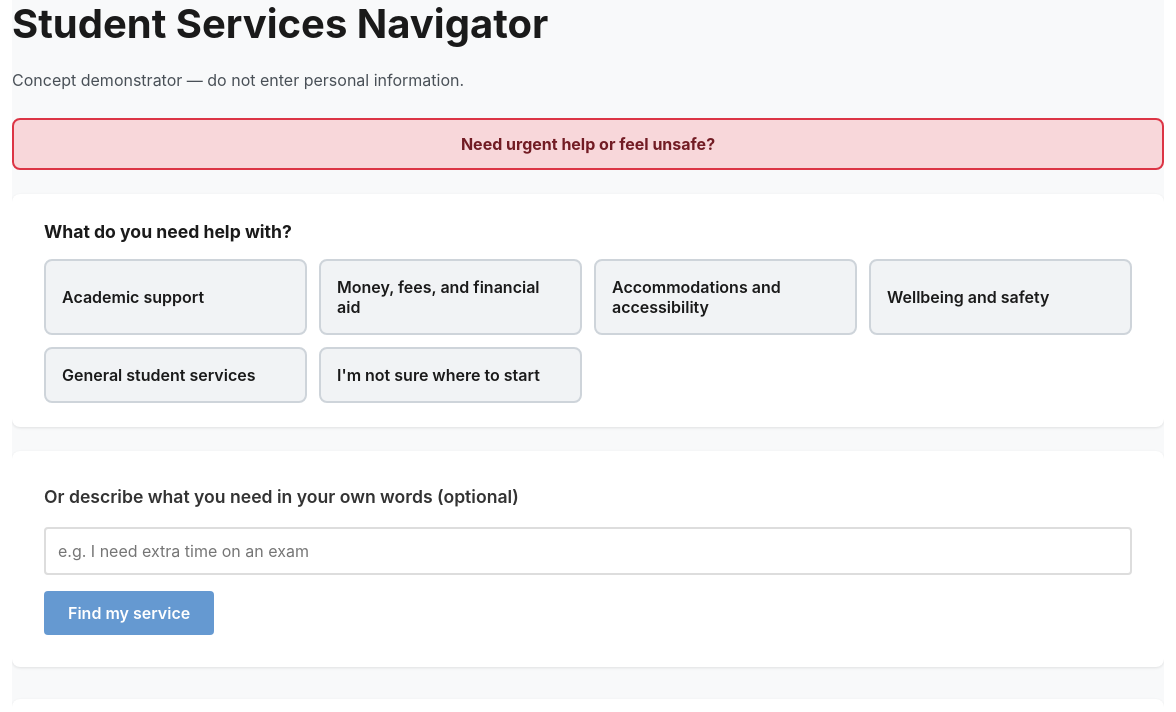
Test: Home page — resolution-first dual-entry UX › the urgent-help route is visible and usable without any search submission (F-16, A-09)
Click the button "Need urgent help or feel unsafe?". click: (588, 144)
box: [12,118,1164,170]
(page scrolled)
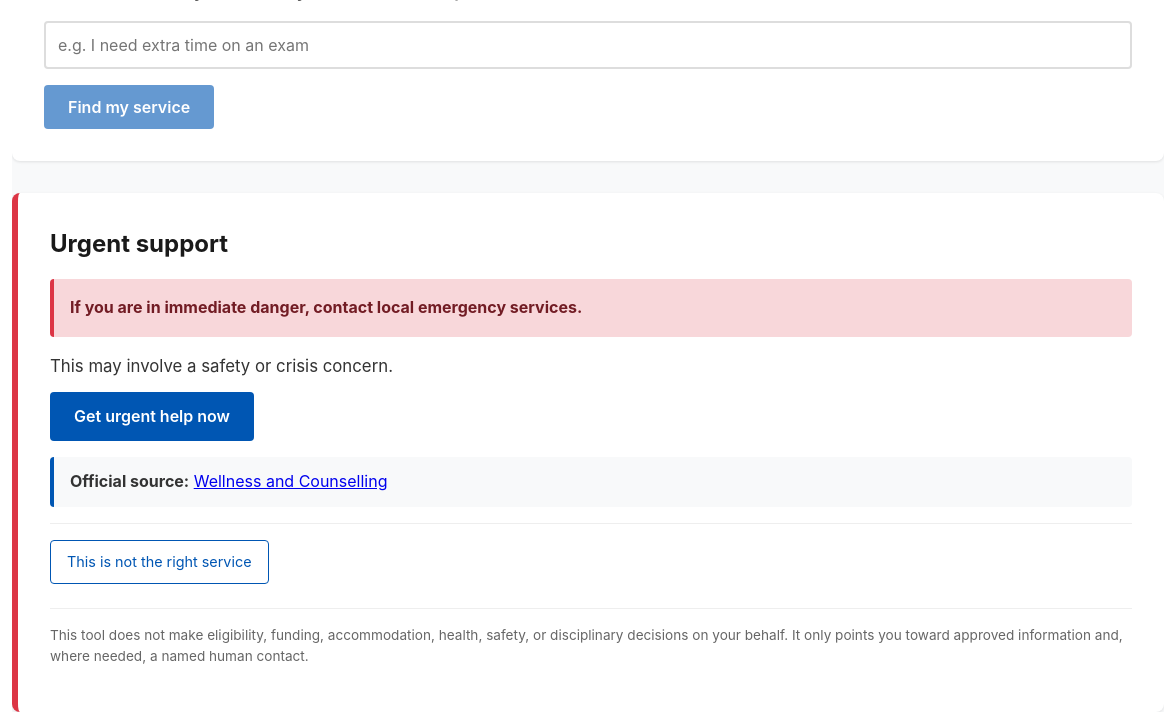
Expected: the text "If you are in immediate danger, contact local emergency services." is shown, [50,279,1132,337]
